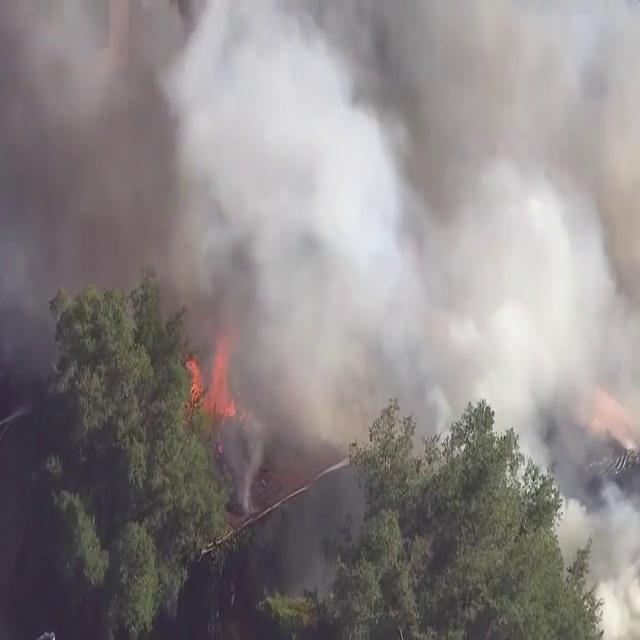Fire: (182, 325, 238, 432)
Smoke: (111, 0, 637, 592)
